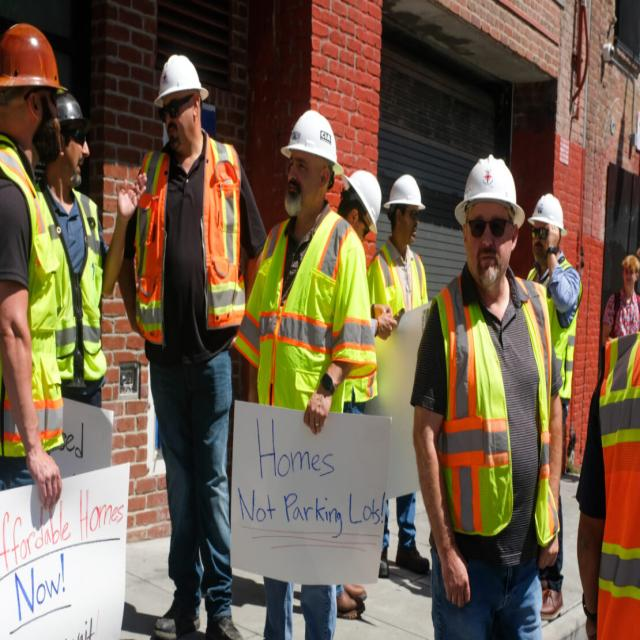helmet: (454, 152, 526, 237), (0, 20, 70, 100), (280, 108, 347, 182), (152, 53, 210, 114), (347, 170, 382, 237), (382, 168, 426, 220), (526, 188, 567, 240)
vest: (434, 272, 557, 544), (0, 139, 67, 461), (137, 140, 249, 330), (255, 212, 358, 418), (599, 332, 640, 640), (47, 185, 109, 388)
